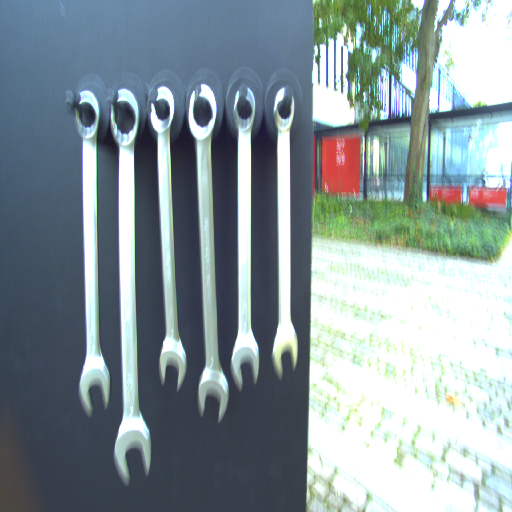bottom: (114, 417, 155, 489), (74, 355, 116, 417), (196, 364, 229, 426), (229, 332, 262, 391), (155, 334, 187, 391), (270, 321, 299, 380)
top: (64, 88, 104, 141), (184, 84, 219, 141), (107, 87, 139, 148), (267, 83, 302, 134), (146, 82, 177, 134), (230, 85, 259, 134)
